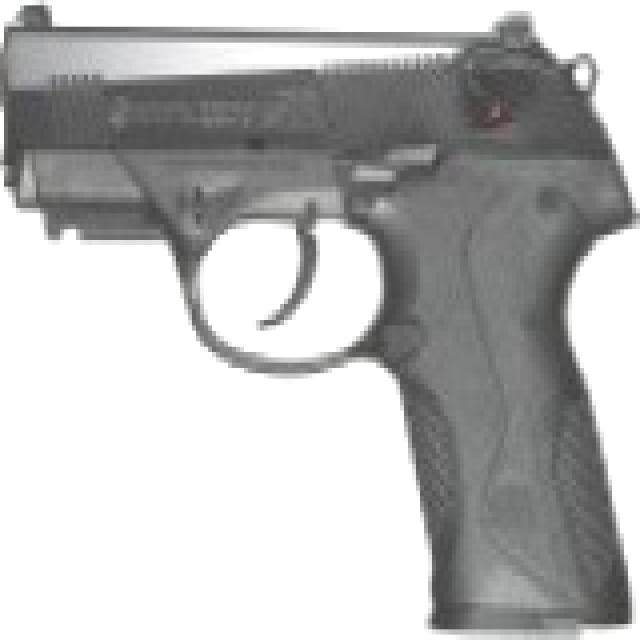pistol: (4, 11, 628, 629)
